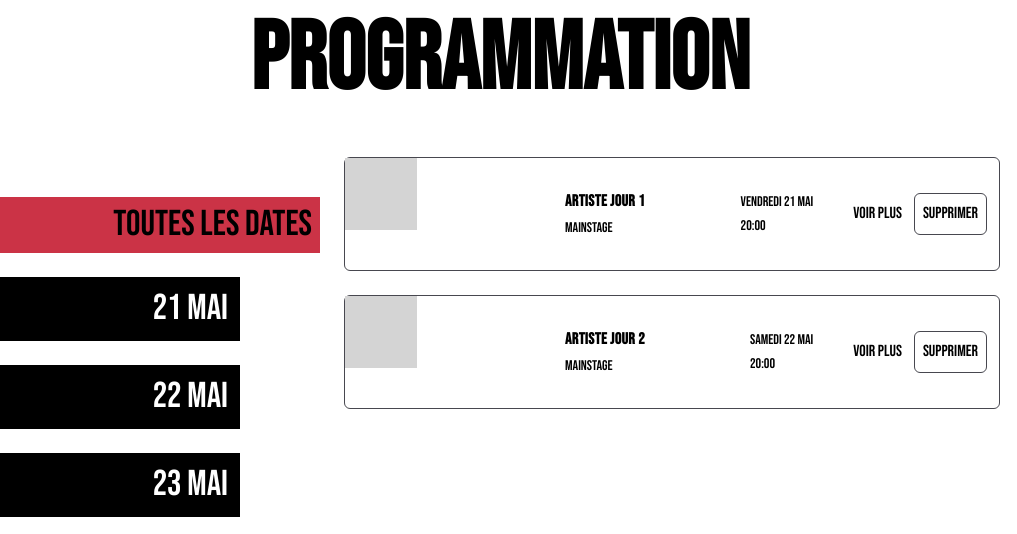
Scenario: ArtistsPage › filtre les artistes par date apres clic sur un filtre de jour
Check: the text "Artiste Jour 1" is shown, box top-left (565, 190), bottom-right (645, 214)
Check: the text "Artiste Jour 2" is shown, box top-left (565, 328), bottom-right (645, 352)
// clic sur le filtre du premier jour
What coordinates should you click on to do the following:
click the button "21 mai"
I would click on:
 (120, 309)
Its box is top-left (12, 289), bottom-right (228, 329).
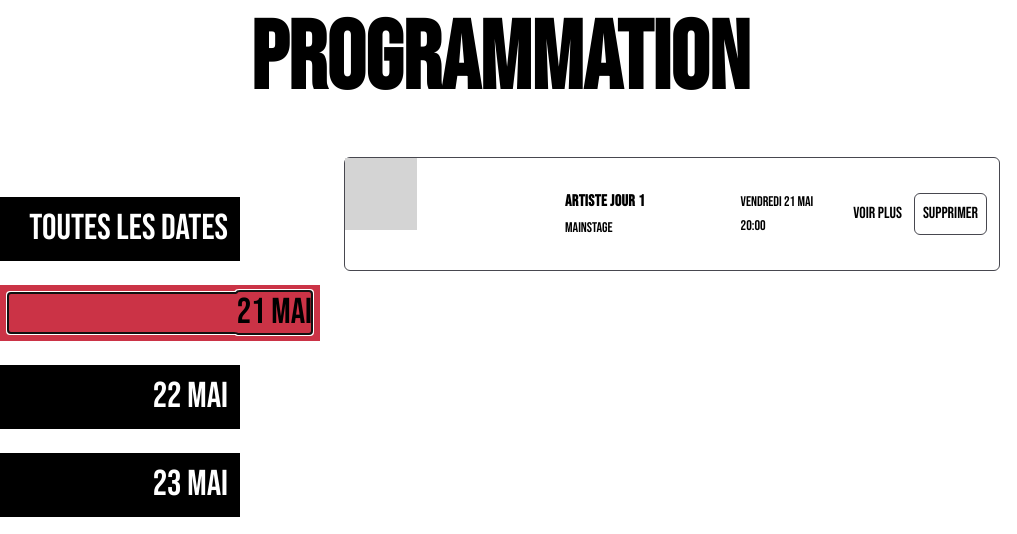
Check: the text "Artiste Jour 1" is shown, box top-left (565, 190), bottom-right (645, 214)
Check: the text "Artiste Jour 2" is gone
